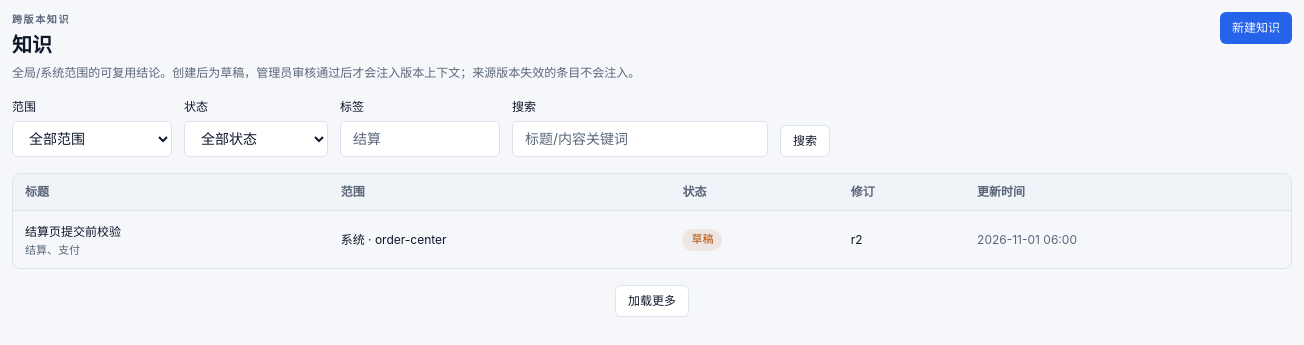
Test case: KnowledgePage › appends the next page through the cursor with 加载更多
This screenshot has width=1304, height=345.
expect the button "结算页提交前校验" is shown: met, box [25,224,121,240]
Click the button with test id "knowledge-load-more". click: (652, 301)
box: [615,285,689,317]
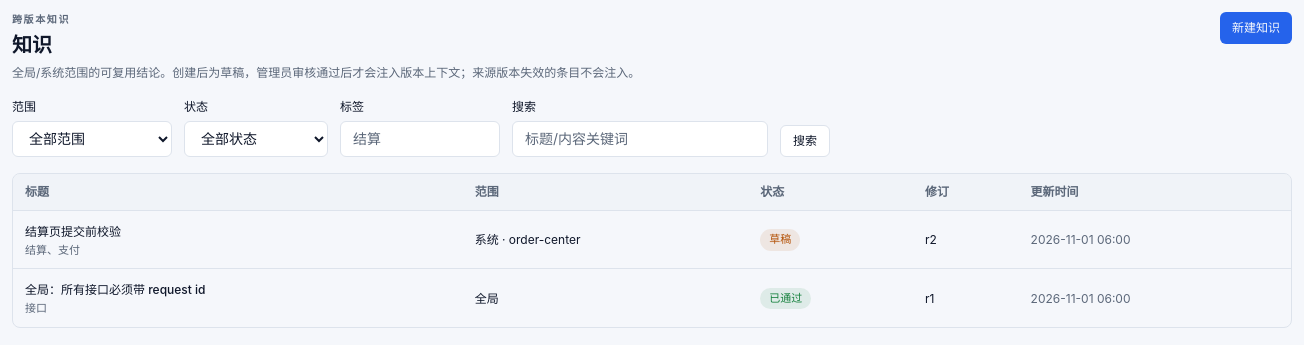
expect the button "结算页提交前校验" is shown: met, box [25,224,121,240]
expect the button "全局：所有接口必须带 request id" is shown: met, box [25,282,206,298]
expect the button with test id "knowledge-load-more" is gone: met
